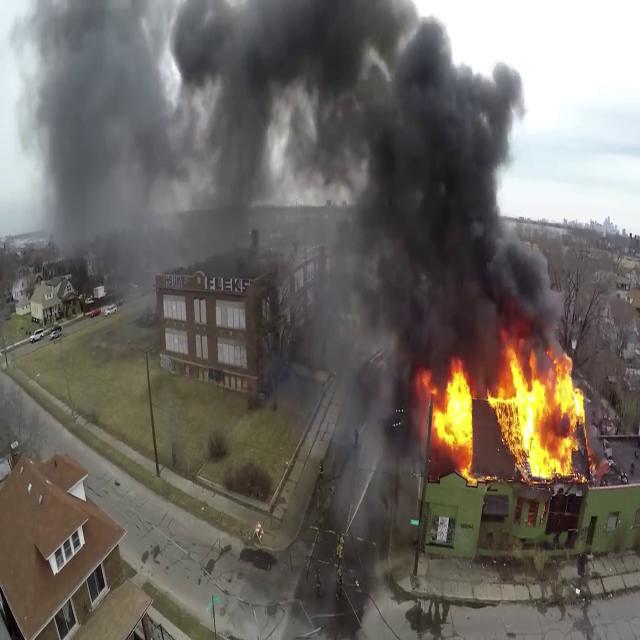Fire: (420, 341, 592, 483)
Smoke: (20, 0, 557, 381)
